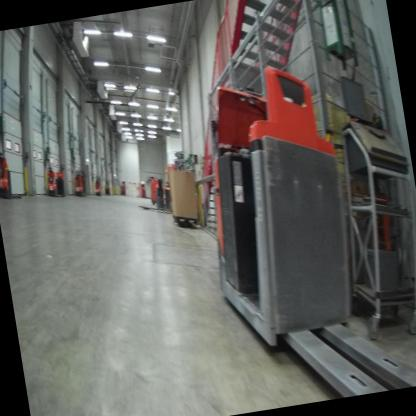pallet_truck: (180, 41, 416, 413), (134, 175, 180, 224), (41, 160, 69, 200), (146, 172, 168, 208), (82, 162, 103, 197), (71, 167, 91, 196)
